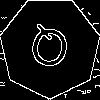Q: (25, 22, 73, 79)
